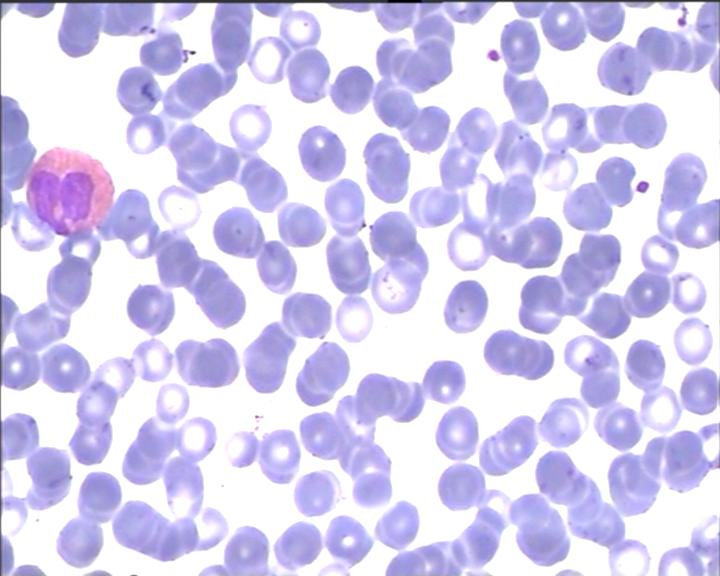eosi: (20, 144, 116, 238)
